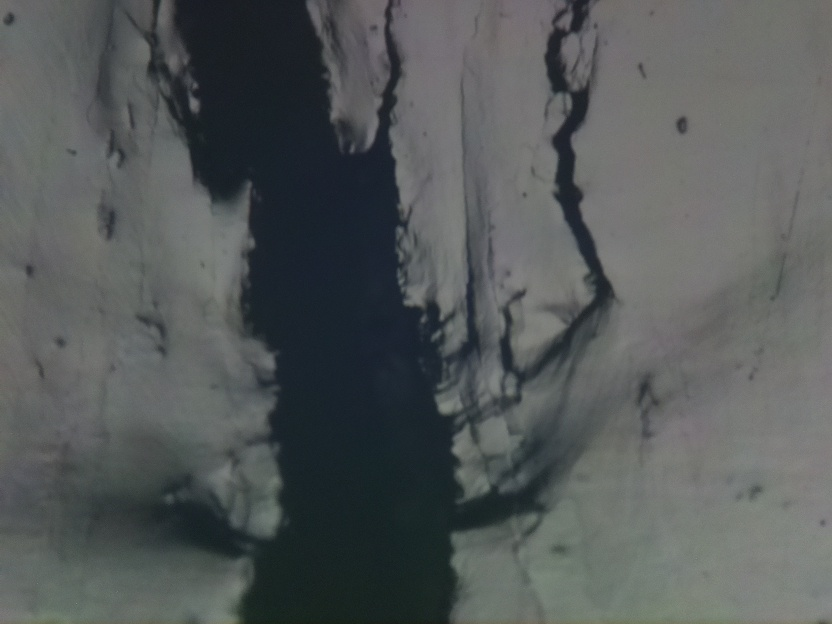crack: (168, 0, 455, 623), (541, 0, 618, 377)
